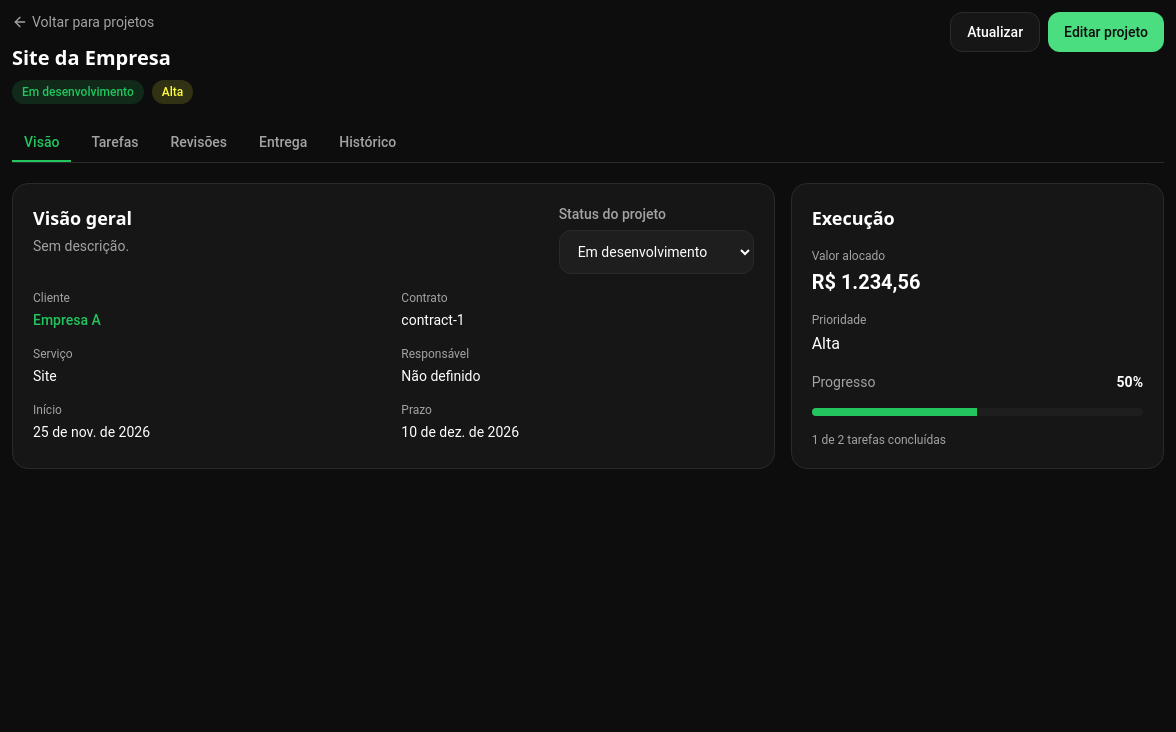
Scenario: ProjectDetailPage › refresh em erro preserva o último projeto válido
Click the button "Atualizar".
click(995, 32)  # box top-left (950, 12), bottom-right (1040, 52)
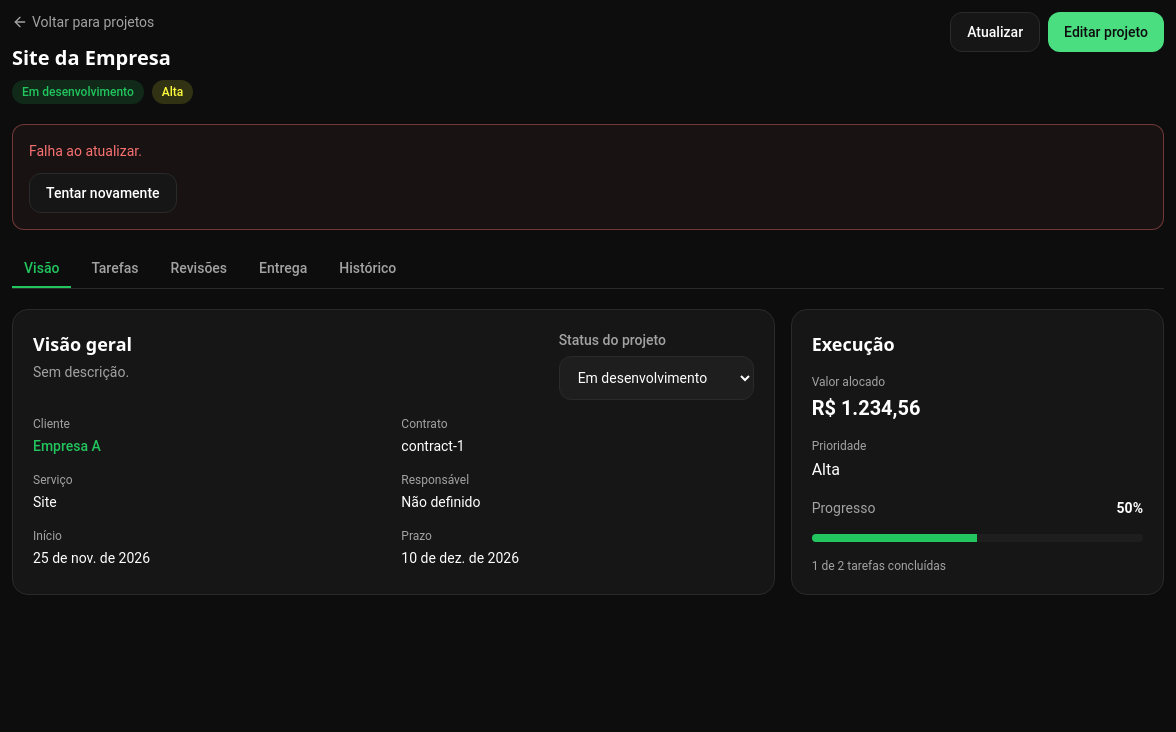
Expected: the heading "Site da Empresa" is shown, top-left (12, 44), bottom-right (193, 72)
Now the text "Falha ao atualizar." is shown, box top-left (29, 143), bottom-right (142, 159)
